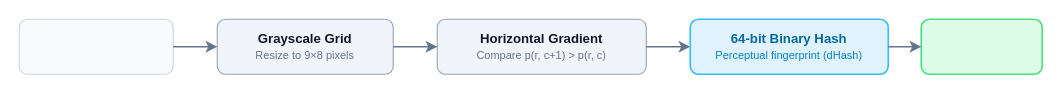
This 1063x95 diagram has some shape labels left out. The box of each missing label's shape, as (x1, y1, x2, y2) in pixels:
300×300 Image RGB frame: (18, 18, 173, 74)
Hamming Distance Bitwise XOR sum: (920, 18, 1043, 75)
